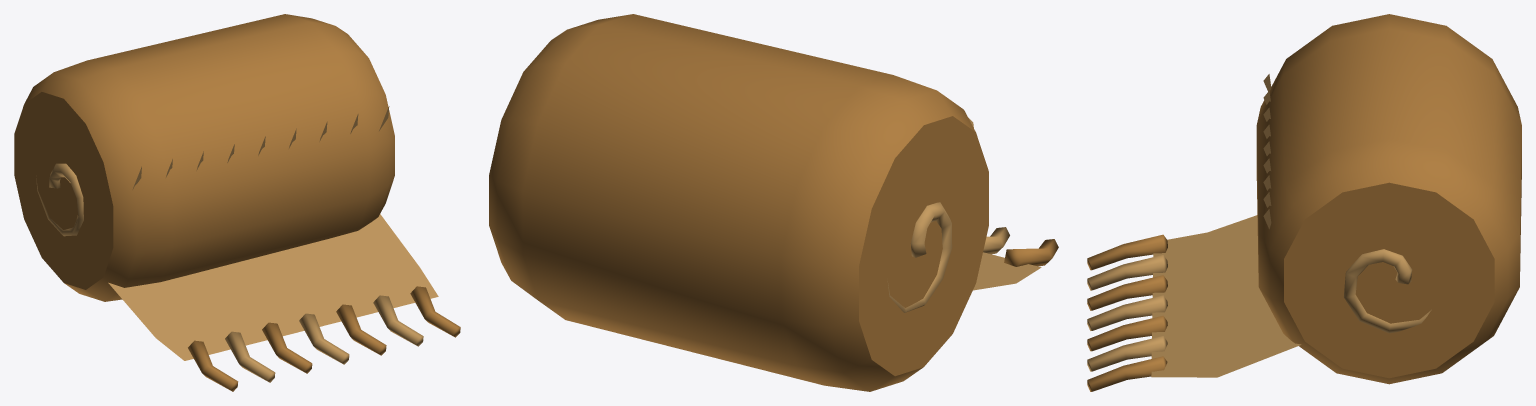
File: wool_scarf.glb
3 renders of one model, left to right at view 1: azimuth 30°, elevation 25°; view 2: azimuth 150°, elevation 25°; view 3: azimuth 270°, elevation 25°, orthographic. The views are drawn at different scales.
Visible parts, largest first — view 1: wool_scarf; view 2: wool_scarf; view 3: wool_scarf.
Part boxes in pixels (bbox=[...]): wool_scarf: bbox=[14, 14, 460, 391]; wool_scarf: bbox=[489, 14, 1058, 391]; wool_scarf: bbox=[1087, 14, 1521, 391].
Size of the model in its own units: 0.1938 by 0.1374 by 0.2175.
